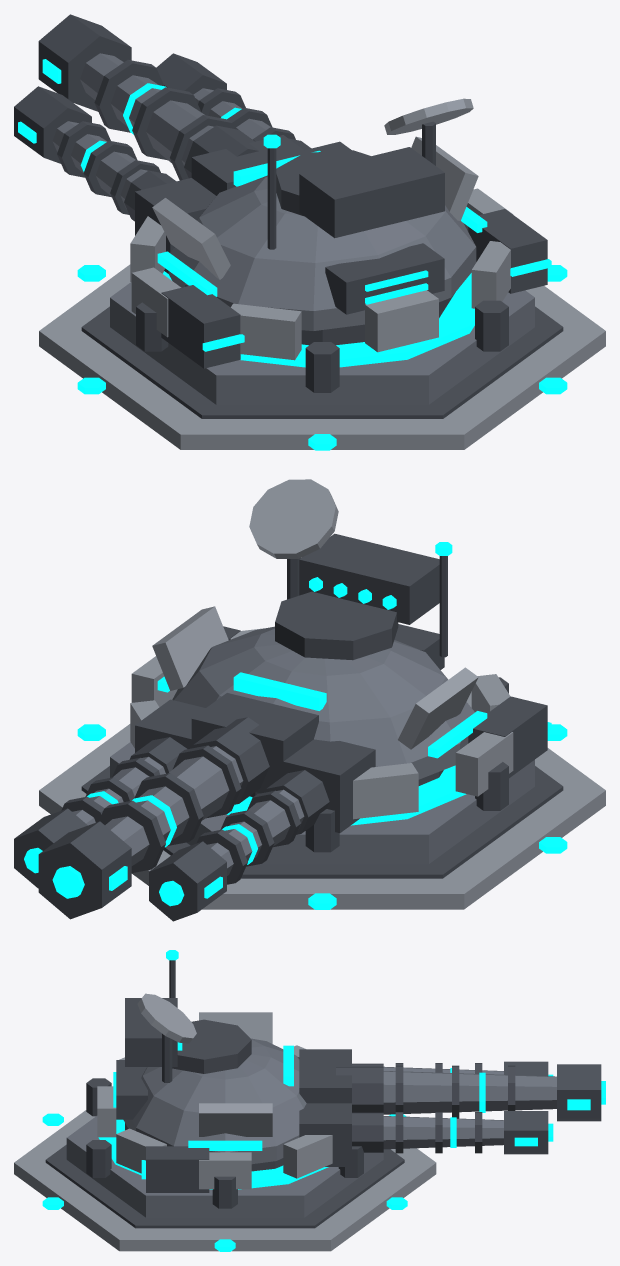
File: turret_lvl6.fbx
3 views of the same model, one above another, from view 1: azimuth 30°, elevation 25°; view 2: azimuth 150°, elevation 25°; view 3: azimuth 270°, elevation 25° (orthographic). The views are drawn at different scales.
Visible parts, largest first — view 1: BaseTier_61, Dome_05, Base_01, BaseSkirt_02, MissileRack_78, SaddleBag_56, BackVent_43, MuzzleBrake_36, BarrelTube_31, Neon_BaseRing_03, SkirtPlate_76, SaddleBag_58 (+31 smaller); view 2: Dome_05, BaseTier_61, Base_01, MissileRack_78, Cupola_60, BaseSkirt_02, MuzzleBrake_36, RadarDish_69, BarrelMount_29, BarrelTube_31, BarrelMount_07, MuzzleBrake_14 (+30 smaller); view 3: BaseTier_61, Dome_05, Base_01, BarrelTube_31, BaseSkirt_02, Cupola_60, BarrelTube_20, SaddleBag_58, BarrelMount_29, ArmorPlate_47, MuzzleBrake_36, BarrelMount_18 (+23 smaller).
Boxes of the visible parts, box(x1,y1,x2,y2) form: BaseTier_61: box(39, 264, 605, 449); Dome_05: box(168, 175, 476, 330); Base_01: box(110, 271, 534, 404); BaseSkirt_02: box(81, 306, 563, 418); MissileRack_78: box(299, 147, 444, 238); SaddleBag_56: box(161, 285, 240, 368); BackVent_43: box(325, 243, 444, 314); MuzzleBrake_36: box(38, 14, 131, 111); BarrelTube_31: box(80, 53, 213, 165); Neon_BaseRing_03: box(163, 271, 474, 367); SkirtPlate_76: box(365, 290, 438, 352); SaddleBag_58: box(468, 209, 547, 293); Dome_05: box(172, 626, 474, 779); BaseTier_61: box(39, 692, 605, 909); Base_01: box(110, 742, 534, 864); MissileRack_78: box(299, 533, 439, 624); Cupola_60: box(275, 591, 398, 660); BaseSkirt_02: box(81, 766, 563, 878); MuzzleBrake_36: box(38, 821, 131, 919); RadarDish_69: box(249, 479, 338, 558); BarrelMount_29: box(191, 693, 318, 793); BarrelTube_31: box(105, 746, 243, 865); BarrelMount_07: box(270, 739, 375, 832); MuzzleBrake_14: box(149, 841, 226, 921); BaseTier_61: box(14, 1110, 436, 1251); Dome_05: box(123, 1038, 306, 1164); Base_01: box(66, 1116, 383, 1217); BarrelTube_31: box(383, 1071, 556, 1114); BaseSkirt_02: box(45, 1144, 404, 1228); Cupola_60: box(172, 1019, 251, 1073); BarrelTube_20: box(383, 1116, 503, 1149); SaddleBag_58: box(146, 1146, 209, 1192); BarrelMount_29: box(299, 1054, 351, 1103); ArmorPlate_47: box(199, 1103, 272, 1136); MuzzleBrake_36: box(557, 1064, 601, 1121); BarrelMount_18: box(299, 1103, 351, 1166).
Size of the model in its own units: 551 by 293 by 785.
